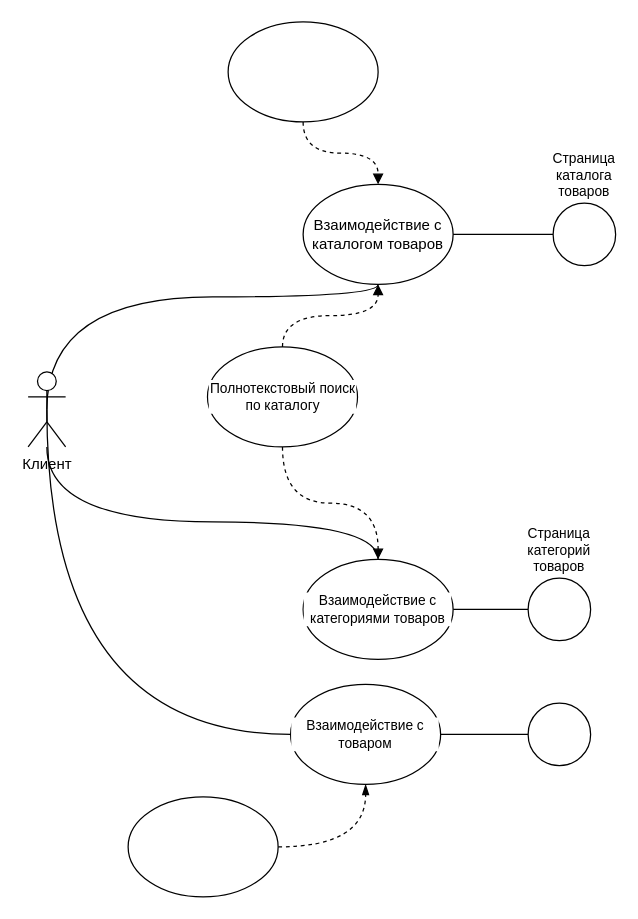
The diagram is 638 pixels wide and 919 high, and some of its shapes have lost their labels. The shapes that lost their labels are listed below. From the top down, each one's box as (x1, y1, x2, y2) in pixels, then its label:
(227, 21, 378, 122): Сортировка по каталогу
(527, 702, 591, 766): Страница товара
(127, 796, 278, 897): Добавить товар в корзину
